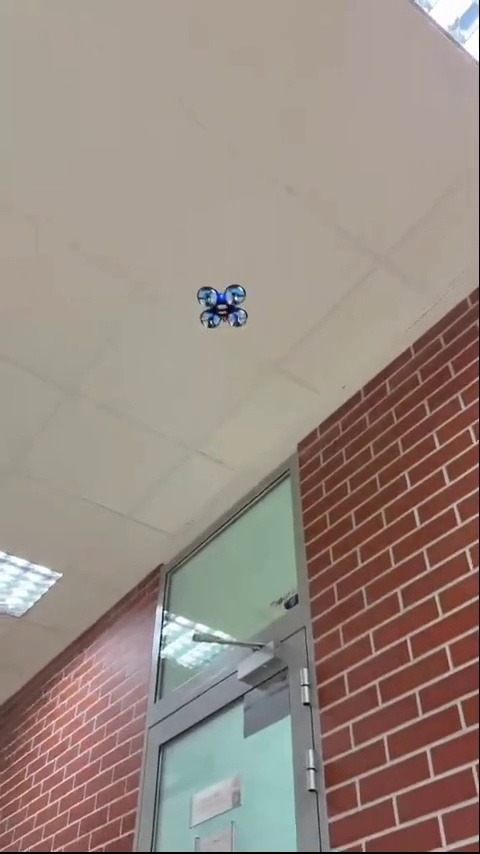drone: (194, 283, 253, 330)
